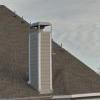Chimney: (24, 17, 65, 93)
